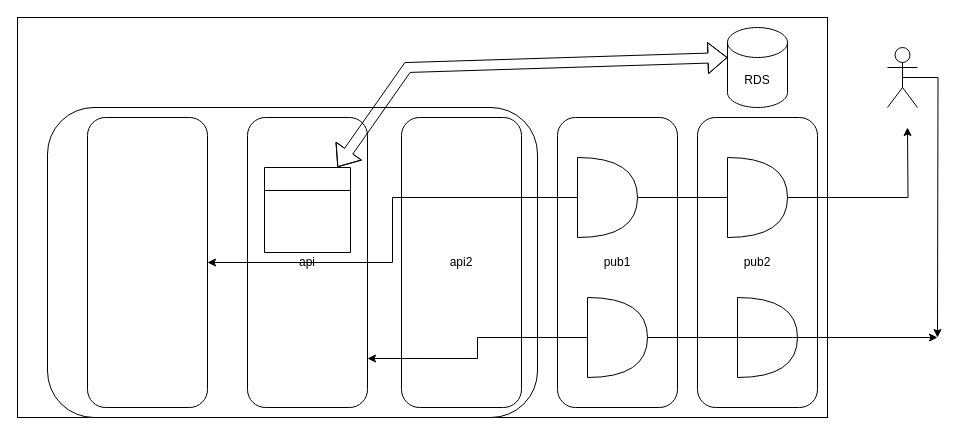
The diagram is 964 pixels wide and 435 high, and some of its shapes have lost their labels. The shapes that lost their labels are listed below. From the top down, each one's centre as x and y in pixels, then its label:
At (x=902, y=77): "Actor".
At (x=307, y=209): "Vertical Container".
At (x=147, y=262): "web".
